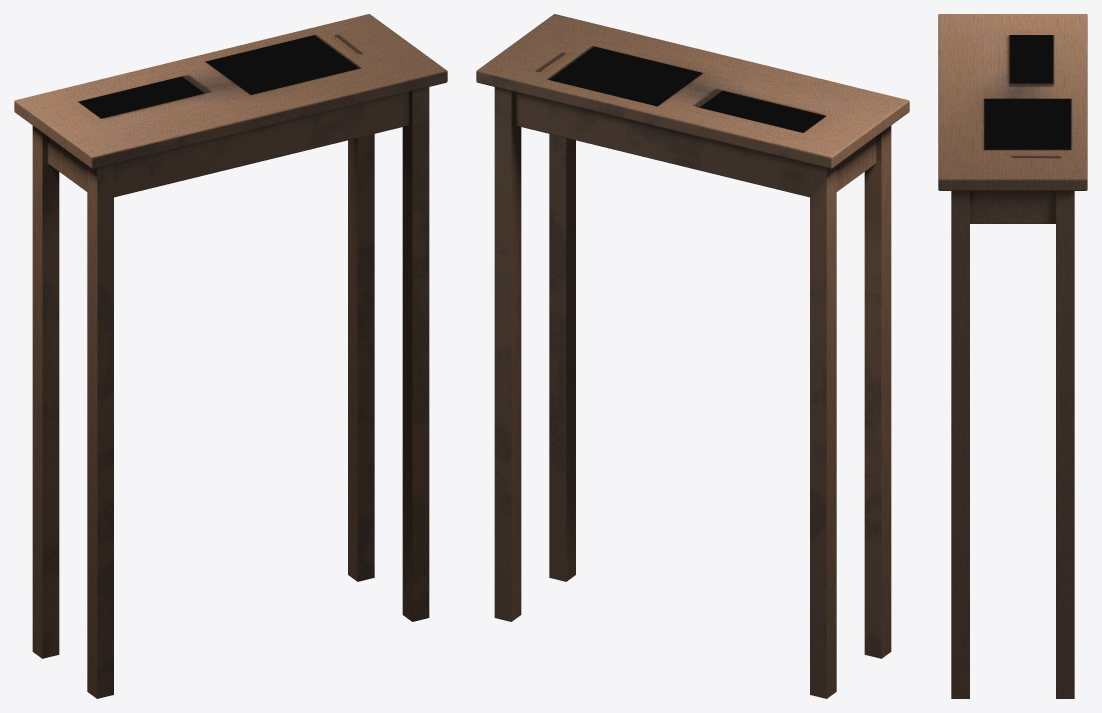
File: 504_hook.glb
The picture shows the model from 3 angles, left to right: view 1: azimuth 30°, elevation 25°; view 2: azimuth 150°, elevation 25°; view 3: azimuth 270°, elevation 25°; orthographic projection. The views are drawn at different scales.
Parts seen in each view (by area): view 1: Table; view 2: Table; view 3: Table.
Part boxes in pixels (<box>): Table: <box>14,14,447,698</box>; Table: <box>476,14,909,698</box>; Table: <box>938,14,1087,698</box>.
Size of what is drawn, in the model's own units: 2.1 by 3.1 by 0.8.
1 material, 1 textured.
